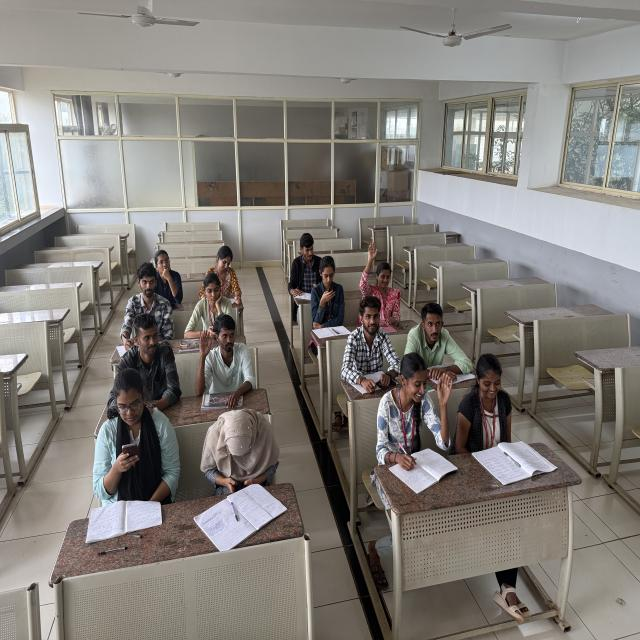Hand Rising: (196, 313, 257, 402), (358, 237, 401, 321)
Reading: (455, 351, 518, 454)
Using Phone: (90, 366, 177, 502), (198, 405, 282, 493), (184, 273, 238, 338), (307, 254, 349, 327), (290, 232, 324, 300)
Writing: (374, 350, 438, 488), (115, 260, 181, 352), (195, 245, 244, 306)
